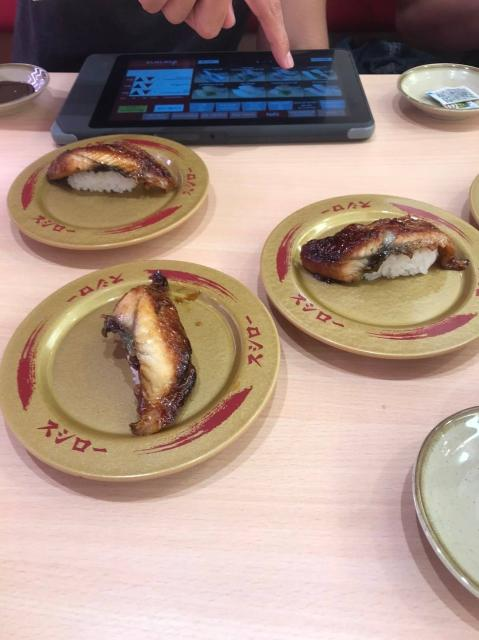jangold: (0, 256, 275, 467), (247, 180, 478, 360), (13, 131, 232, 270)
